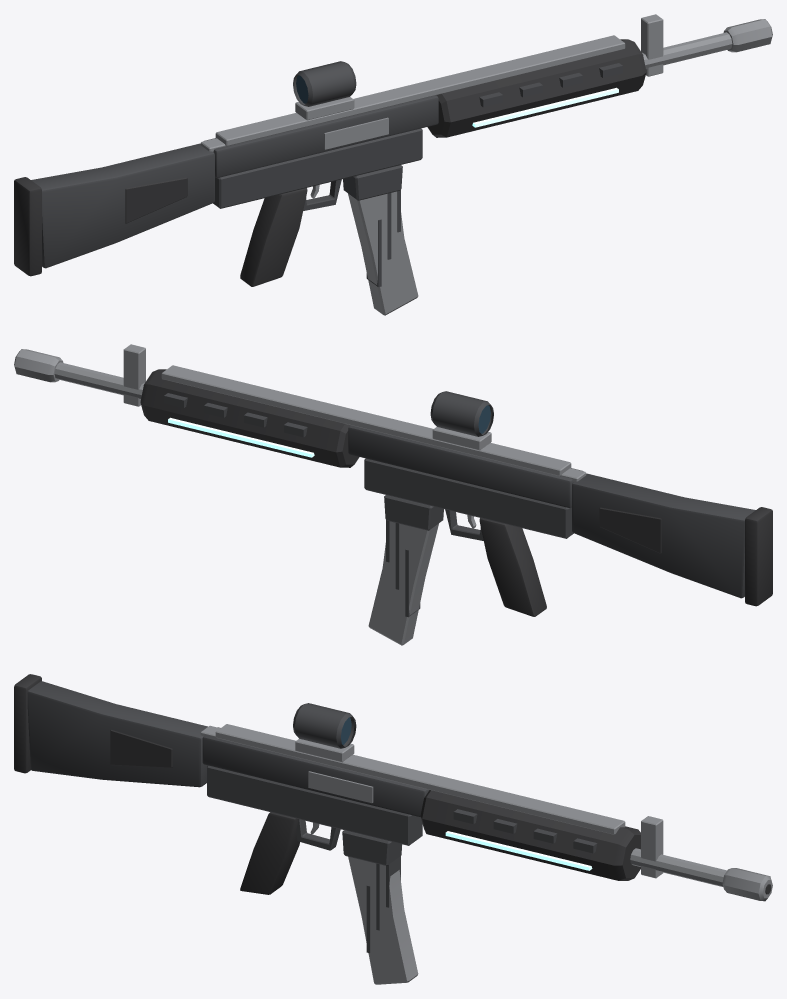
File: w_rifle.glb
3 renders of one model, top to bottom at view 1: azimuth 30°, elevation 25°; view 2: azimuth 150°, elevation 25°; view 3: azimuth 330°, elevation 25°, orthographic.
Parts seen in each view (by area): view 1: W_rifle; view 2: W_rifle; view 3: W_rifle.
Boxes of the visible parts, <box> form: W_rifle: <box>14,14,772,315</box>; W_rifle: <box>14,344,772,645</box>; W_rifle: <box>14,674,772,984</box>.
Size of the model in its own units: 0.936 by 0.3094 by 0.064.
